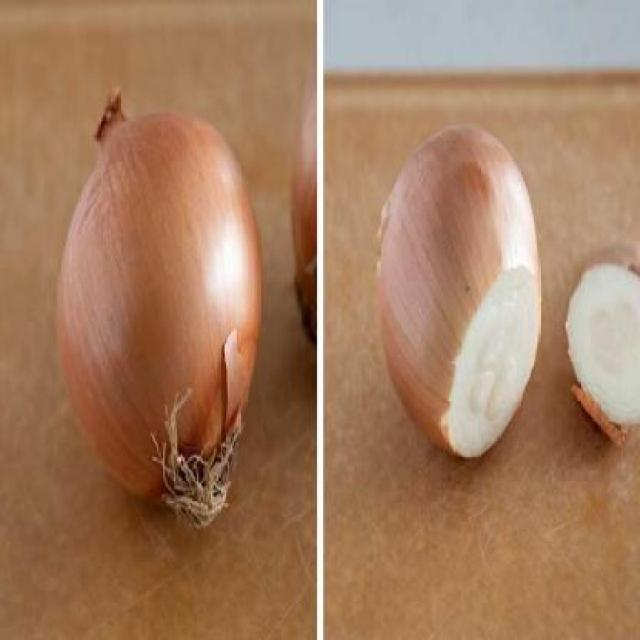Onion: (58, 92, 262, 528)
